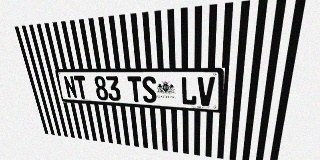3: (105, 76, 121, 101)
8: (93, 76, 109, 100)
L: (181, 76, 197, 105)
N: (63, 76, 78, 99)
S: (141, 76, 157, 103)
T: (127, 76, 143, 102), (73, 76, 89, 99)
V: (197, 77, 215, 106)
